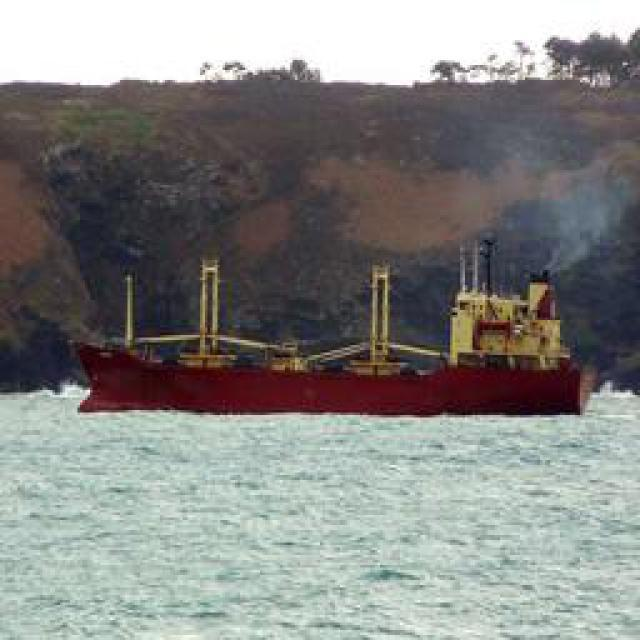Ship: (84, 302, 589, 420)
